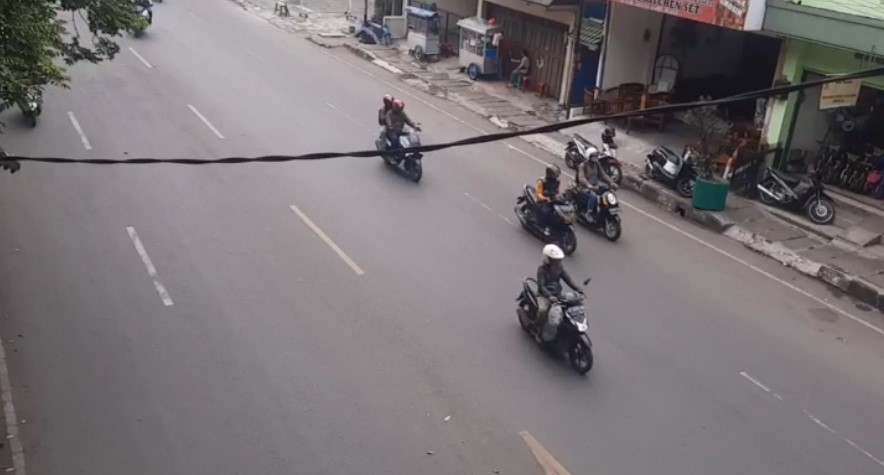motor: (511, 248, 603, 371), (508, 165, 583, 253), (371, 89, 436, 190), (565, 149, 631, 241)
